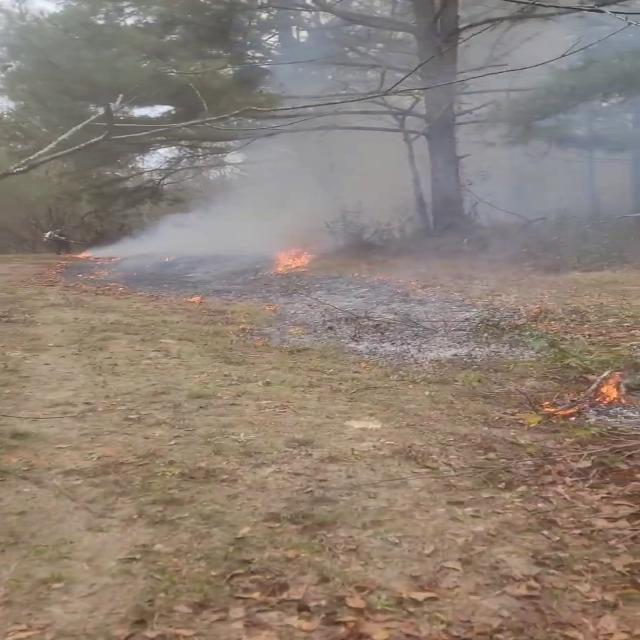Fire: (266, 241, 321, 277)
Smoke: (98, 0, 636, 310)
